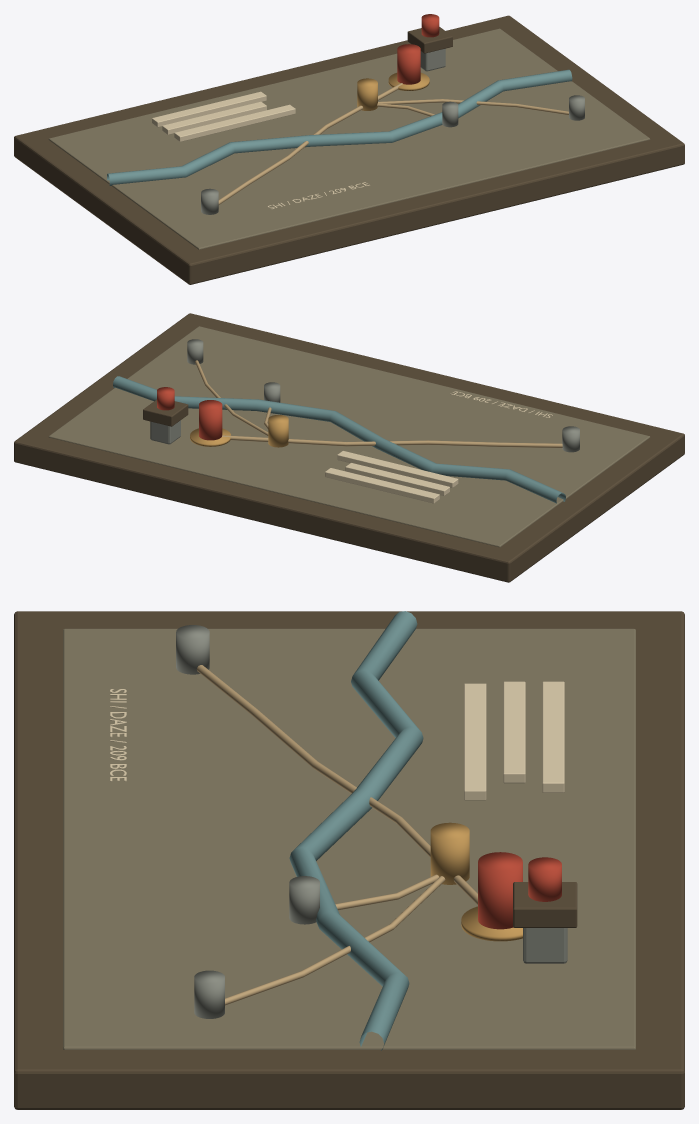
Rendered from shi-daze-wartable-v1.glb.
3 renders of one model, top to bottom at view 1: azimuth 30°, elevation 25°; view 2: azimuth 150°, elevation 25°; view 3: azimuth 270°, elevation 25°, orthographic. The views are drawn at different scales.
Visible parts, largest first — view 1: raised earth map, dark wood campaign table, Huai river, bamboo tally three, bamboo tally one, bamboo tally two, Daze marker, Xianyang to Chen road, beacon tower crown, Chen to Kuaiji road, Chen marker, beacon tower base (+2 smaller); view 2: raised earth map, dark wood campaign table, Huai river, Xianyang to Chen road, bamboo tally three, bamboo tally one, bamboo tally two, Daze marker, beacon tower crown, Chen marker, beacon tower base, Xianyang marker; view 3: raised earth map, dark wood campaign table, Huai river, Daze marker, Xianyang to Chen road, bamboo tally three, bamboo tally one, beacon tower crown, bamboo tally two, Chen marker, Chen to Kuaiji road, beacon tower base (+7 smaller).
Part boxes in pixels (box(x1,y1,x2,y2)): raised earth map: box(48, 28, 650, 249); dark wood campaign table: box(14, 15, 684, 284); Huai river: box(107, 69, 572, 185); bamboo tally three: box(174, 104, 295, 141); bamboo tally one: box(152, 91, 266, 127); bamboo tally two: box(162, 101, 266, 134); Daze marker: box(397, 44, 420, 84); Xianyang to Chen road: box(218, 83, 402, 204); beacon tower crown: box(407, 27, 452, 53); Chen to Kuaiji road: box(378, 99, 568, 114); Chen marker: box(357, 78, 377, 110); beacon tower base: box(420, 48, 445, 71); raised earth map: box(49, 326, 650, 547); dark wood campaign table: box(14, 313, 684, 582); Huai river: box(113, 376, 565, 503); Xianyang to Chen road: box(222, 435, 562, 447); bamboo tally three: box(337, 451, 458, 487); bamboo tally one: box(325, 468, 439, 503); bamboo tally two: box(345, 463, 449, 495); Daze marker: box(199, 400, 222, 440); beacon tower crown: box(143, 399, 188, 426); Chen marker: box(268, 415, 288, 447); beacon tower base: box(150, 420, 180, 444); Xianyang marker: box(562, 426, 579, 452); raised earth map: box(63, 628, 635, 1049); dark wood campaign table: box(14, 611, 684, 1109); Huai river: box(289, 611, 423, 1050); Daze marker: box(478, 852, 522, 929); Xianyang to Chen road: box(196, 665, 477, 904); bamboo tally three: box(464, 683, 486, 800); bamboo tally one: box(542, 681, 564, 792); beacon tower crown: box(513, 882, 577, 927); bamboo tally two: box(503, 681, 525, 783); Chen marker: box(430, 822, 469, 884); Chen to Kuaiji road: box(225, 876, 445, 1005); beacon tower base: box(523, 928, 567, 963).
Bounding box in the file's own units: 390 × 55 × 240.
